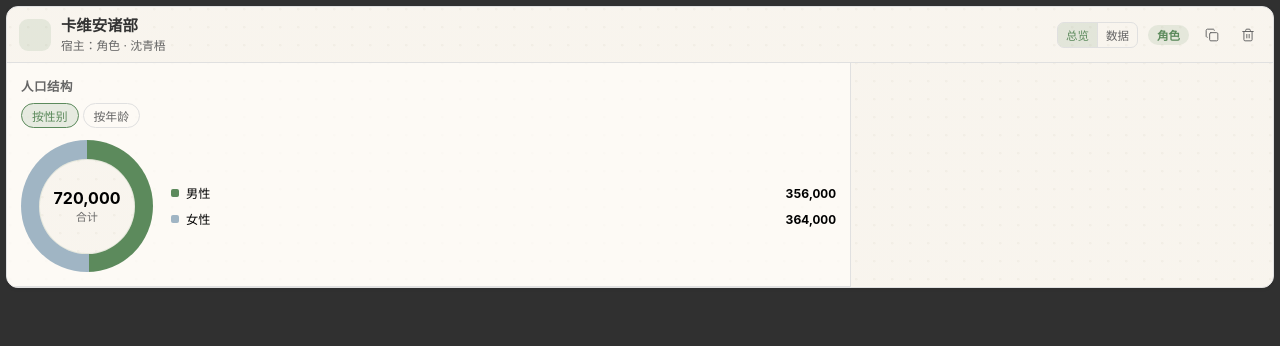
StatusPanelCard readonly 模式（地图系统批7） › 有展示骨架时默认进入总览，可切换分类并退回原始数据表
Click the button "按年龄" at (111, 116), box [82,103,140,128]
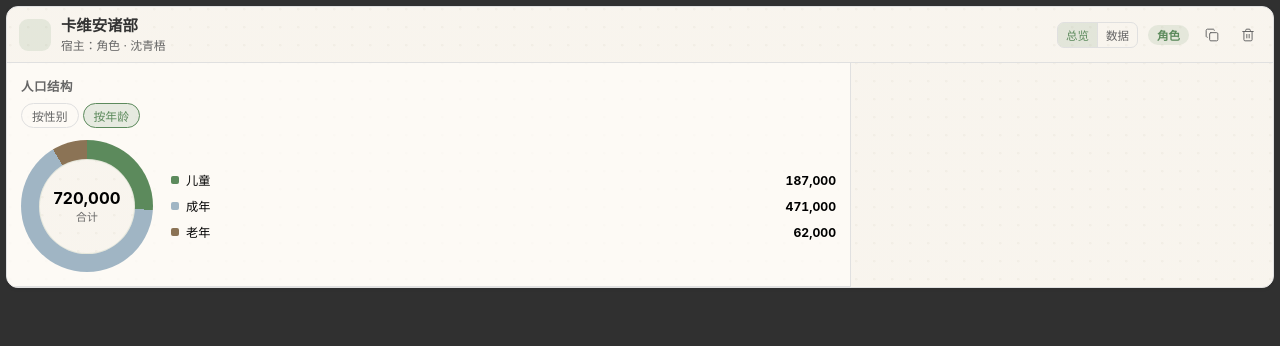
Expected: the text "成年" is shown, [186,199,210,214]
Click the tab "数据" at (1117, 35), box [1098,23,1137,47]
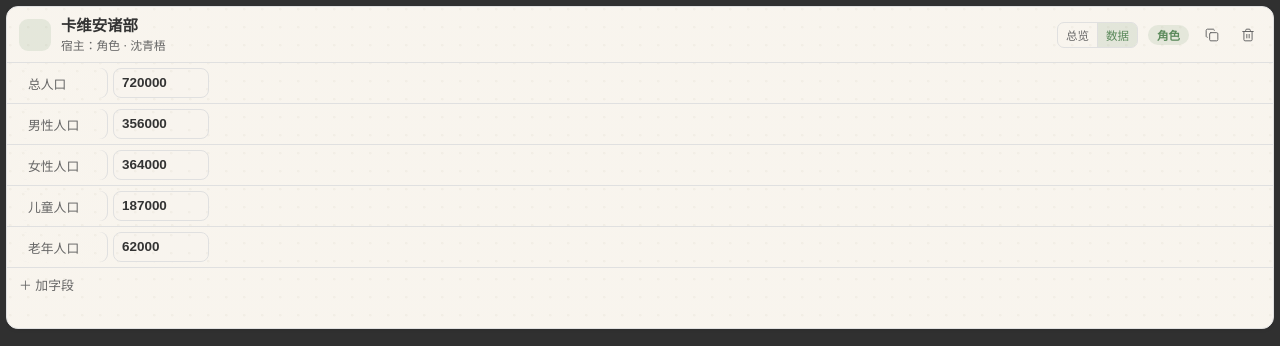
Expected: the element with class "ssp-grid-wrap" is shown
